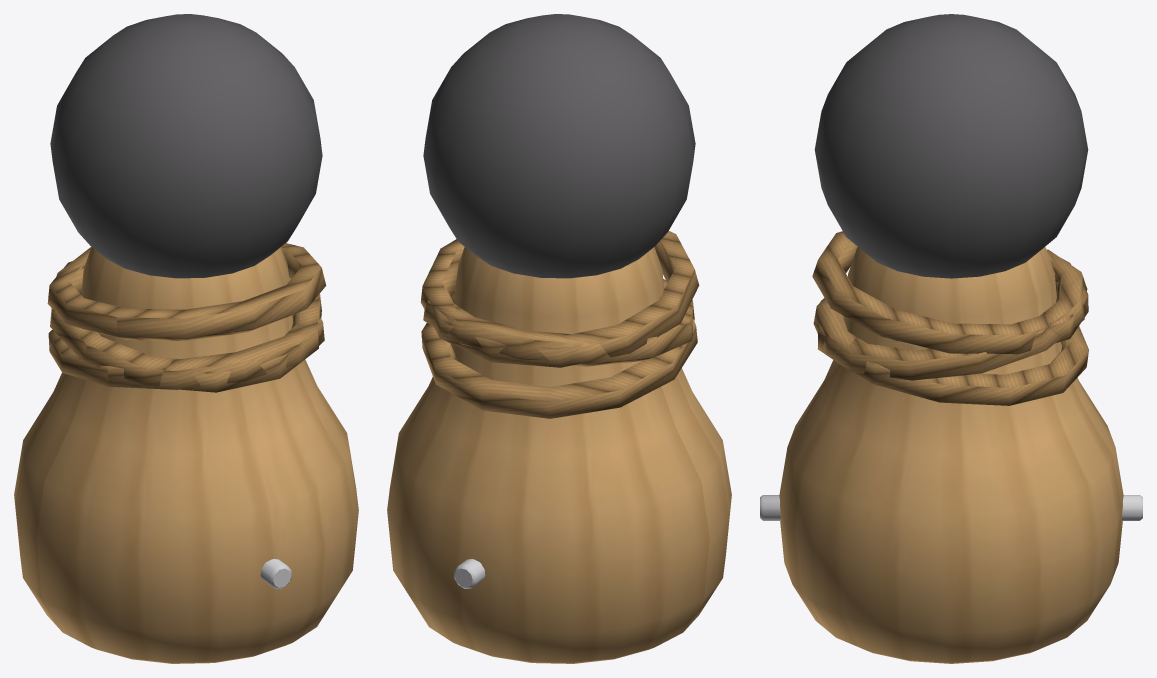
The model's file is Extra_Joint.glb.
The picture shows the model from 3 angles, left to right: view 1: azimuth 30°, elevation 25°; view 2: azimuth 150°, elevation 25°; view 3: azimuth 270°, elevation 25°; orthographic projection.
Visible parts, largest first — view 1: Extra_Joint; view 2: Extra_Joint; view 3: Extra_Joint.
Boxes of the visible parts, x1,y1,x2,y2 form: Extra_Joint: (14,14,358,663); Extra_Joint: (387,14,731,663); Extra_Joint: (760,14,1142,663).
Bounding box in the file's own units: 0.114 × 0.2124 × 0.126.
Materials: 4 (2 with a texture image).
